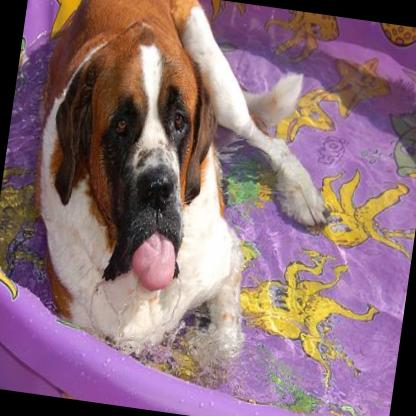Saint_Bernard: (9, 0, 355, 369)
